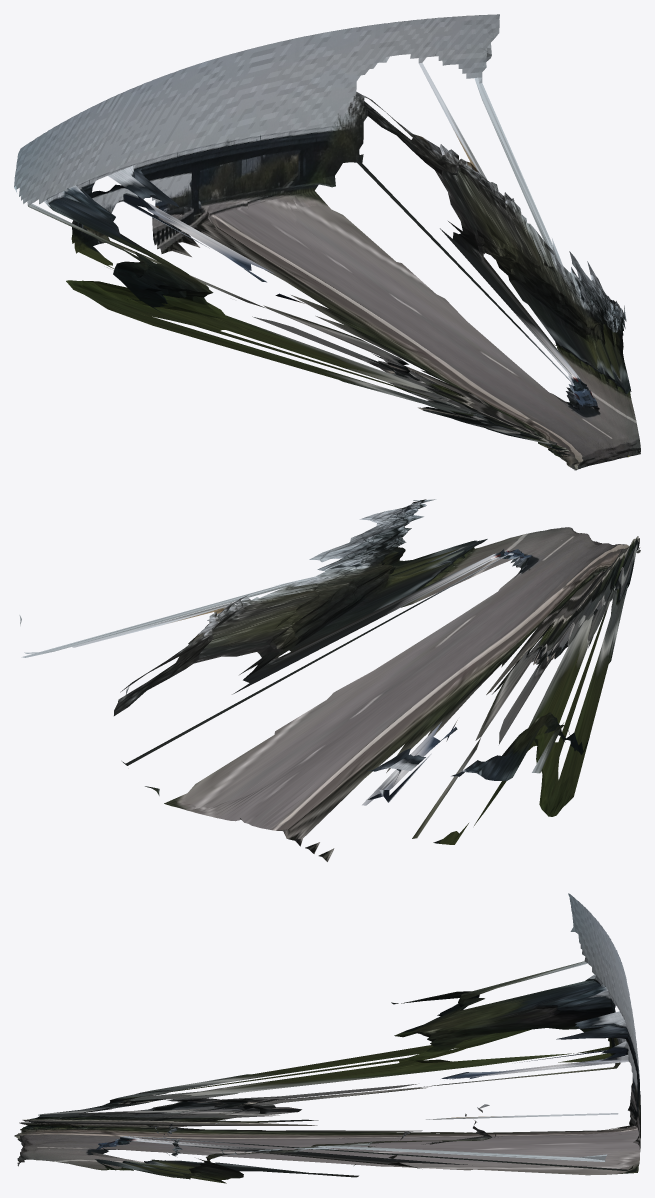
The picture shows the model from 3 angles, top to bottom: view 1: azimuth 30°, elevation 25°; view 2: azimuth 150°, elevation 25°; view 3: azimuth 270°, elevation 25°; orthographic projection. The views are drawn at different scales.
Parts seen in each view (by area): view 1: defaultobject; view 2: defaultobject; view 3: defaultobject.
Part boxes in pixels (x1,y1,x2,y2): defaultobject: (14, 14, 640, 470); defaultobject: (19, 499, 640, 861); defaultobject: (14, 893, 640, 1183).
Size of the model in its own units: 36.28 by 12.81 by 44.44.
Materials: 1 (1 with a texture image).
